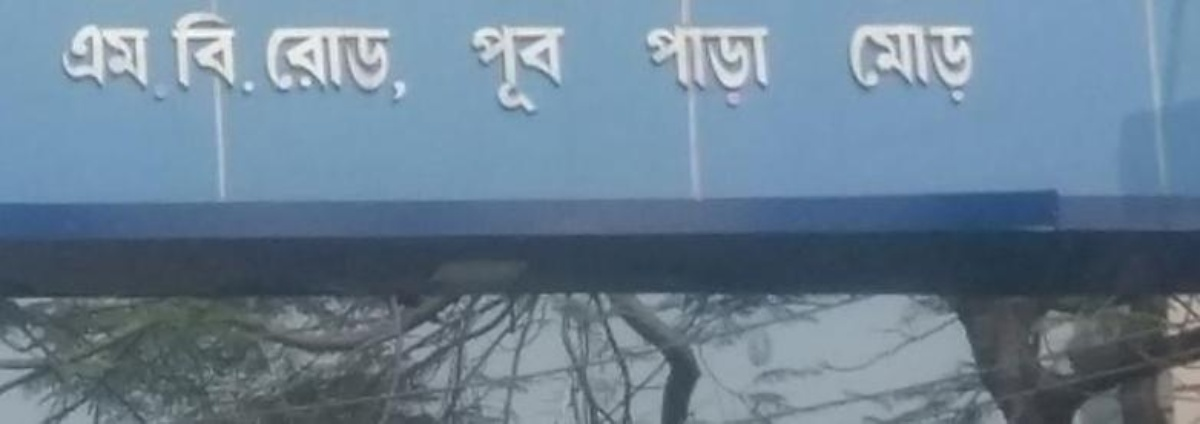text: (753, 24, 769, 111), (481, 24, 496, 116), (497, 24, 512, 116), (513, 24, 528, 116), (529, 24, 544, 116), (545, 24, 560, 116), (241, 11, 257, 96), (657, 24, 672, 111), (673, 24, 688, 111), (689, 24, 704, 111), (705, 24, 720, 111), (721, 24, 736, 111), (737, 24, 752, 111), (177, 11, 192, 96), (193, 11, 208, 96), (209, 11, 224, 96), (225, 11, 240, 96), (849, 25, 864, 105), (865, 25, 880, 105), (881, 25, 896, 105), (897, 25, 912, 105), (913, 25, 928, 105), (929, 25, 944, 105), (945, 25, 960, 105), (65, 22, 80, 100), (81, 22, 96, 100), (97, 22, 112, 100), (113, 22, 128, 100), (129, 22, 144, 100), (145, 22, 160, 100), (273, 25, 288, 103), (289, 25, 304, 103), (305, 25, 320, 103), (321, 25, 336, 103), (337, 25, 352, 103), (353, 25, 368, 103), (369, 25, 384, 103), (385, 25, 400, 103), (961, 25, 975, 105), (470, 24, 480, 116), (647, 24, 656, 111), (161, 22, 169, 100), (266, 25, 272, 103), (401, 25, 407, 103), (171, 11, 176, 96), (561, 24, 565, 116), (62, 22, 64, 100)
